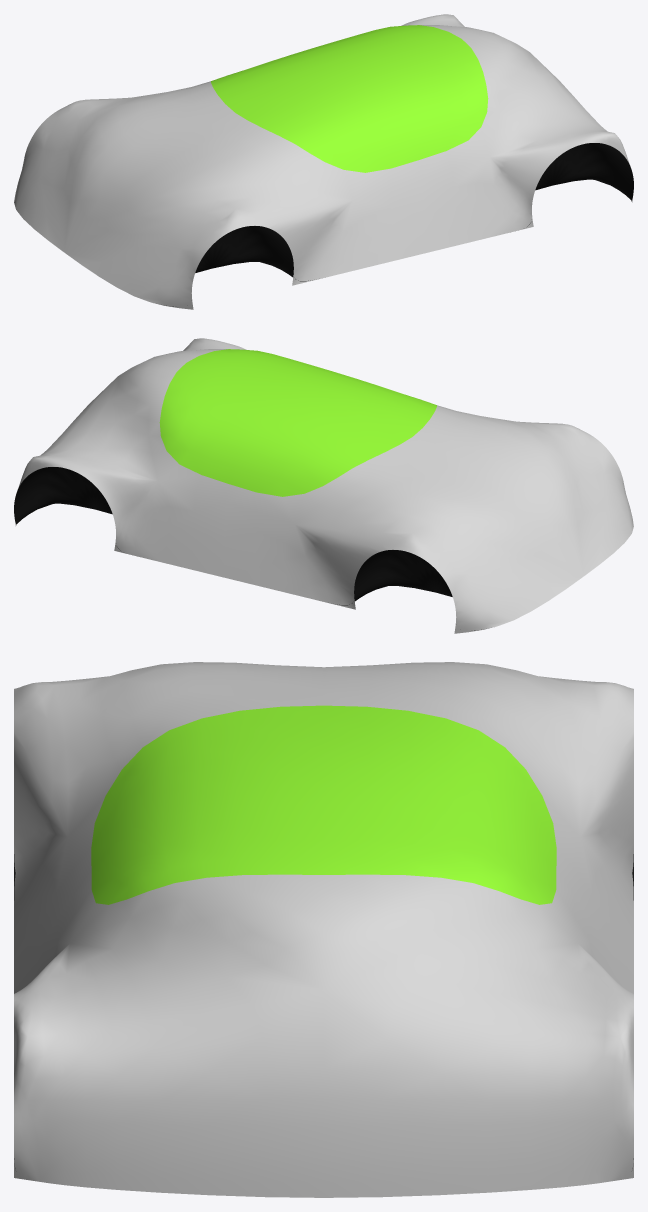
Rendered from Car-Alien-Body.FBX.
The picture shows the model from 3 angles, top to bottom: view 1: azimuth 30°, elevation 25°; view 2: azimuth 150°, elevation 25°; view 3: azimuth 270°, elevation 25°; orthographic projection. The views are drawn at different scales.
Visible parts, largest first — view 1: Car-Alien-Body, Car-Alien-Undercarriage; view 2: Car-Alien-Body, Car-Alien-Undercarriage; view 3: Car-Alien-Body.
Part boxes in pixels (left/top/right/bottom): Car-Alien-Body: left=14, top=14, right=633, bottom=309; Car-Alien-Undercarriage: left=166, top=143, right=633, bottom=306; Car-Alien-Body: left=14, top=338, right=633, bottom=633; Car-Alien-Undercarriage: left=14, top=467, right=481, bottom=630; Car-Alien-Body: left=14, top=662, right=633, bottom=1197.
Bounding box in the file's own units: 480 × 114 × 279.
